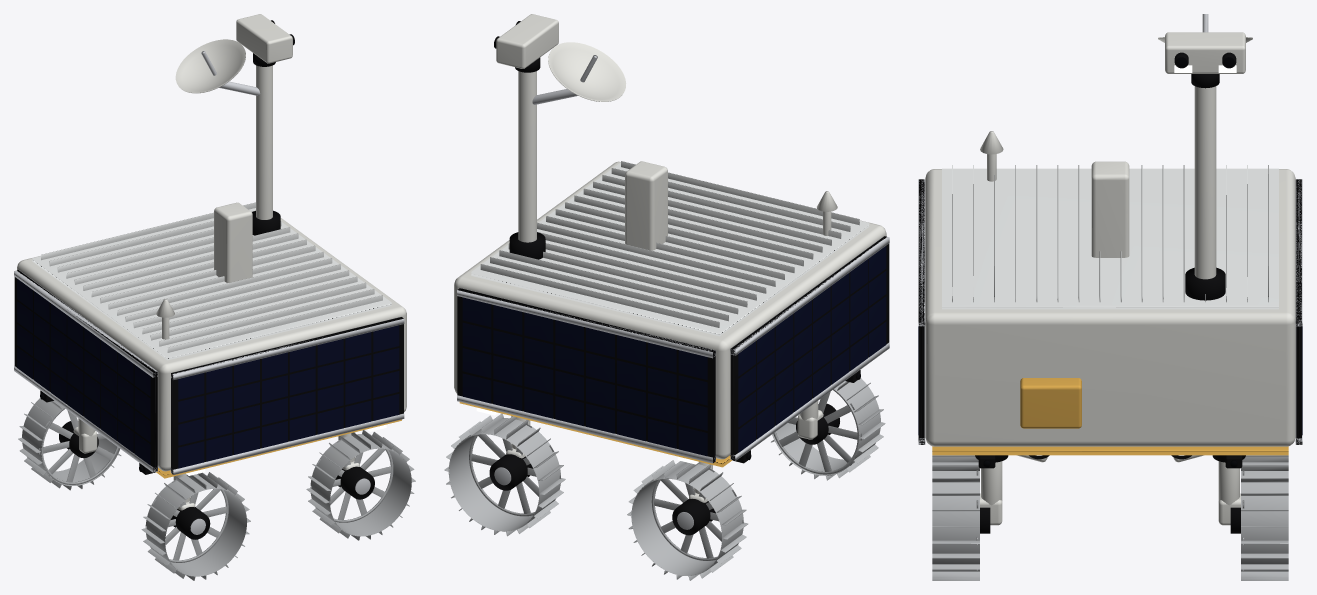
File: viper.glb
The picture shows the model from 3 angles, left to right: view 1: azimuth 30°, elevation 25°; view 2: azimuth 150°, elevation 25°; view 3: azimuth 270°, elevation 25°; orthographic projection. The views are drawn at different scales.
Parts seen in each view (by area): view 1: radiator_fins, array_R_cells, radiator_plate, array_aft_cells, chassis_box, array_R_substrate, wheel_FR_rim, wheel_RR_rim, array_aft_substrate, drill_tower, hga_dish, mast (+12 smaller); view 2: radiator_fins, array_L_cells, radiator_plate, array_aft_cells, chassis_box, array_L_substrate, wheel_FL_rim, wheel_RL_rim, array_aft_substrate, drill_tower, hga_dish, mast (+13 smaller); view 3: chassis_box, radiator_plate, mast, wheel_FL_rim, wheel_FR_rim, drill_tower, chassis_belly, NSS, camera_head_housing, radiator_fins, array_L_substrate, array_R_substrate (+6 smaller).
Part boxes in pixels (x1=…): radiator_fins: x1=41, y1=202, x2=382, y2=352; array_R_cells: x1=178, y1=325, x2=399, y2=468; radiator_plate: x1=32, y1=208, x2=391, y2=360; array_aft_cells: x1=17, y1=278, x2=150, y2=465; chassis_box: x1=17, y1=218, x2=406, y2=471; array_R_substrate: x1=171, y1=317, x2=403, y2=474; wheel_FR_rim: x1=310, y1=434, x2=411, y2=536; wheel_RR_rim: x1=145, y1=474, x2=246, y2=576; array_aft_substrate: x1=14, y1=270, x2=157, y2=472; drill_tower: x1=214, y1=202, x2=252, y2=282; hga_dish: x1=175, y1=39, x2=245, y2=93; mast: x1=256, y1=65, x2=272, y2=219; radiator_fins: x1=480, y1=161, x2=859, y2=327; array_L_cells: x1=462, y1=297, x2=707, y2=456; radiator_plate: x1=471, y1=162, x2=869, y2=336; array_aft_cells: x1=738, y1=246, x2=886, y2=452; chassis_box: x1=454, y1=161, x2=886, y2=459; array_L_substrate: x1=457, y1=288, x2=715, y2=462; wheel_FL_rim: x1=448, y1=418, x2=560, y2=531; wheel_RL_rim: x1=631, y1=462, x2=743, y2=576; array_aft_substrate: x1=730, y1=236, x2=889, y2=460; drill_tower: x1=625, y1=161, x2=667, y2=250; hga_dish: x1=548, y1=42, x2=626, y2=101; mast: x1=518, y1=71, x2=536, y2=242; chassis_box: x1=925, y1=169, x2=1295, y2=446; radiator_plate: x1=942, y1=168, x2=1278, y2=309; mast: x1=1194, y1=86, x2=1216, y2=279; wheel_FL_rim: x1=1241, y1=462, x2=1288, y2=571; wheel_FR_rim: x1=932, y1=462, x2=979, y2=571; drill_tower: x1=1091, y1=161, x2=1129, y2=257; chassis_belly: x1=932, y1=446, x2=1288, y2=455; NSS: x1=1020, y1=378, x2=1081, y2=428; camera_head_housing: x1=1165, y1=32, x2=1245, y2=73; radiator_fins: x1=952, y1=165, x2=1268, y2=302; array_L_substrate: x1=1296, y1=179, x2=1301, y2=444; array_R_substrate: x1=919, y1=179, x2=924, y2=444.
Bounding box in the file's own units: 1.63 × 2.5 × 1.62.
